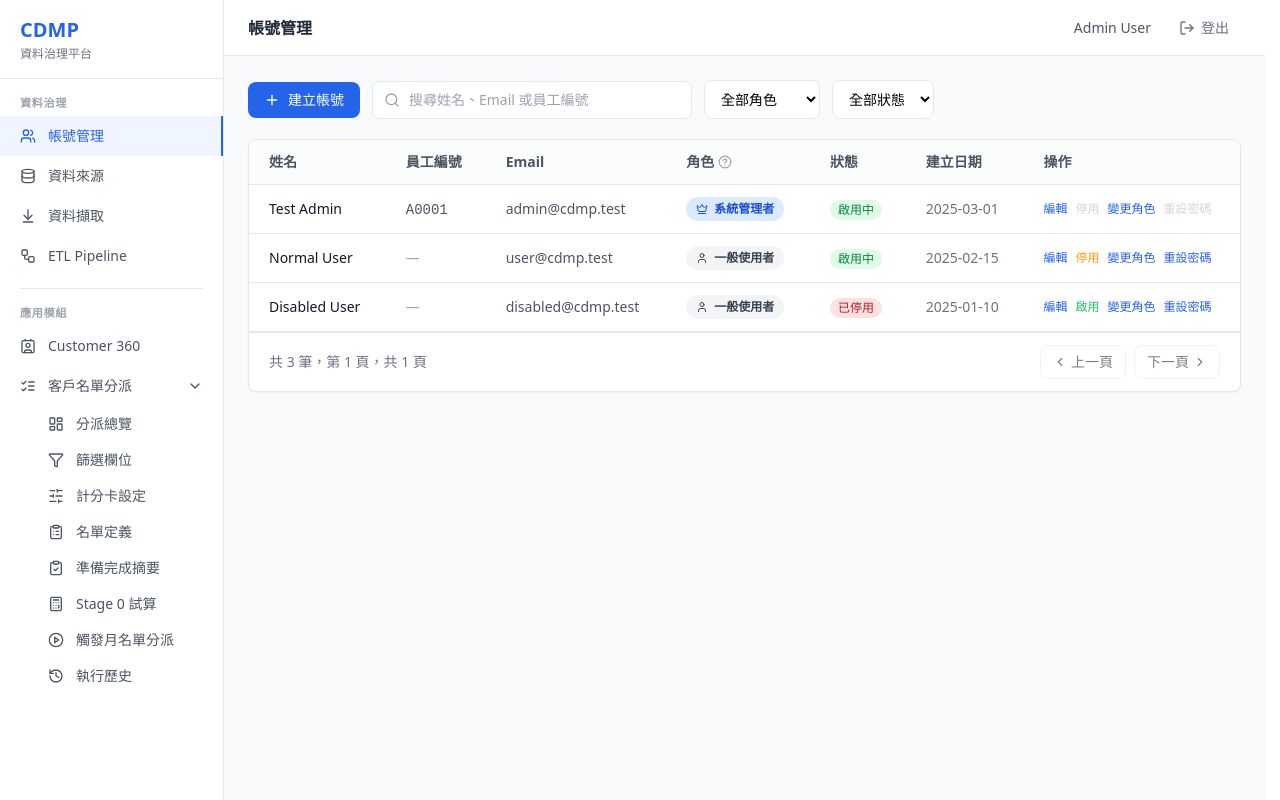
it: AccountListPage › 停用／啟用帳號整合 › 點擊啟用按鈕彈出確認對話框
Click the button "啟用": (1087,307) 1075,299 -> 1099,315
Wait 100 ms
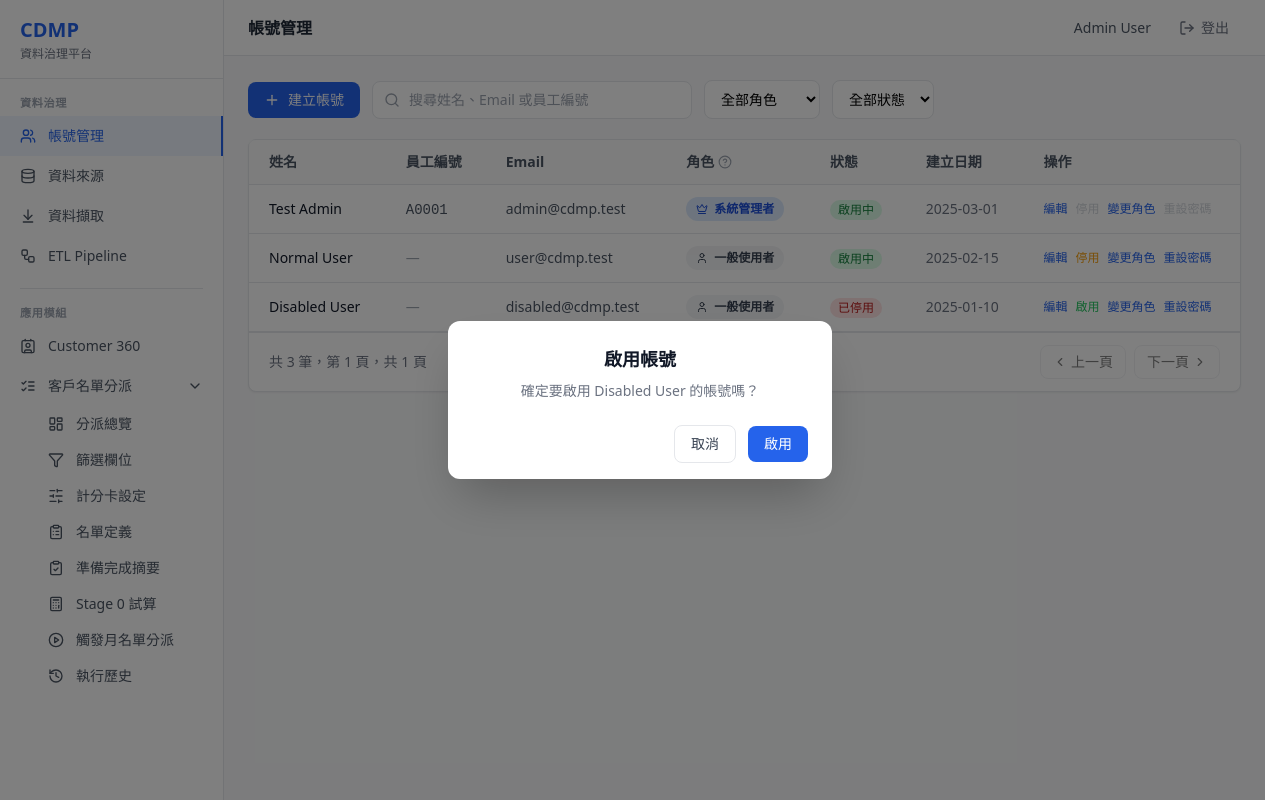
Check: the heading "啟用帳號" is shown, box 604,347 -> 676,371
Check: the text "確定要啟用 Disabled User 的帳號嗎？" is shown, box 521,381 -> 759,400
